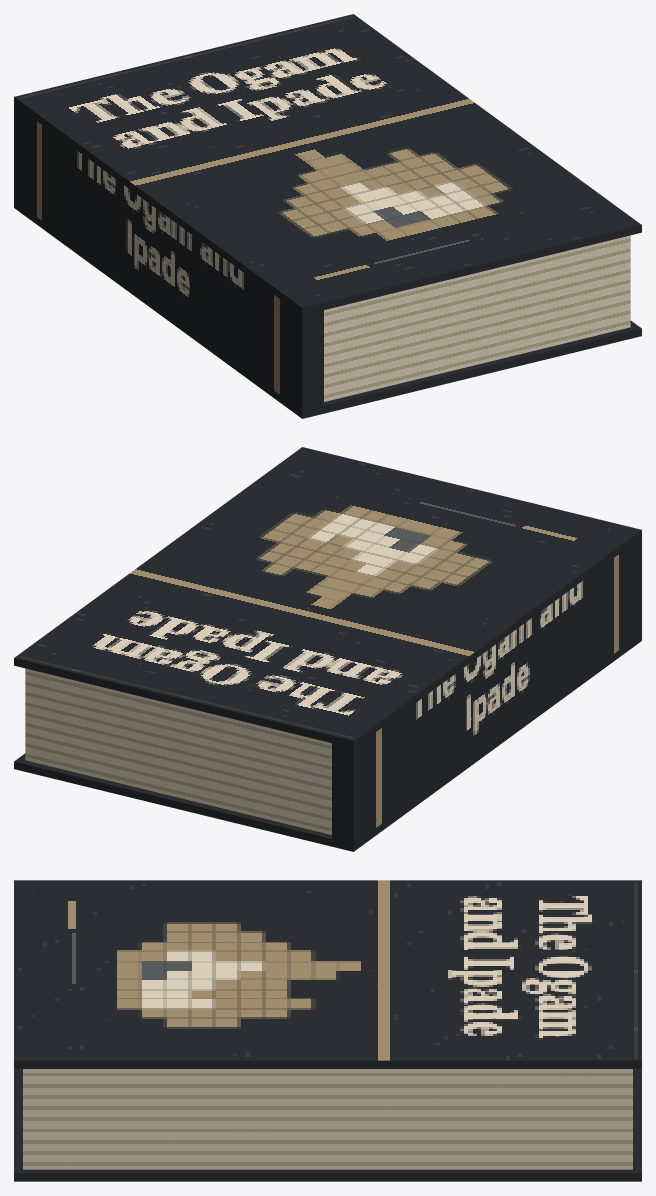
File: holybook_candomble.glb
The picture shows the model from 3 angles, top to bottom: view 1: azimuth 30°, elevation 25°; view 2: azimuth 150°, elevation 25°; view 3: azimuth 270°, elevation 25°; orthographic projection. The views are drawn at different scales.
Visible parts, largest first — view 1: block_front cover, block_spine, block_page block, block_back cover; view 2: block_front cover, block_spine, block_page block, block_back cover; view 3: block_front cover, block_page block, block_back cover.
Boxes of the visible parts, x1,y1,x2,y2 form: block_front cover: (14, 14, 641, 315); block_spine: (14, 104, 323, 411); block_page block: (324, 235, 630, 401); block_back cover: (14, 200, 641, 418); block_front cover: (14, 447, 641, 748); block_spine: (332, 537, 641, 844); block_page block: (25, 668, 331, 834); block_back cover: (14, 633, 641, 851); block_front cover: (14, 880, 641, 1068); block_page block: (23, 1069, 632, 1169); block_back cover: (14, 1069, 641, 1181).
Bounding box in the file's own units: 0.1414 × 0.0442 × 0.208.
1 material, 1 textured.
